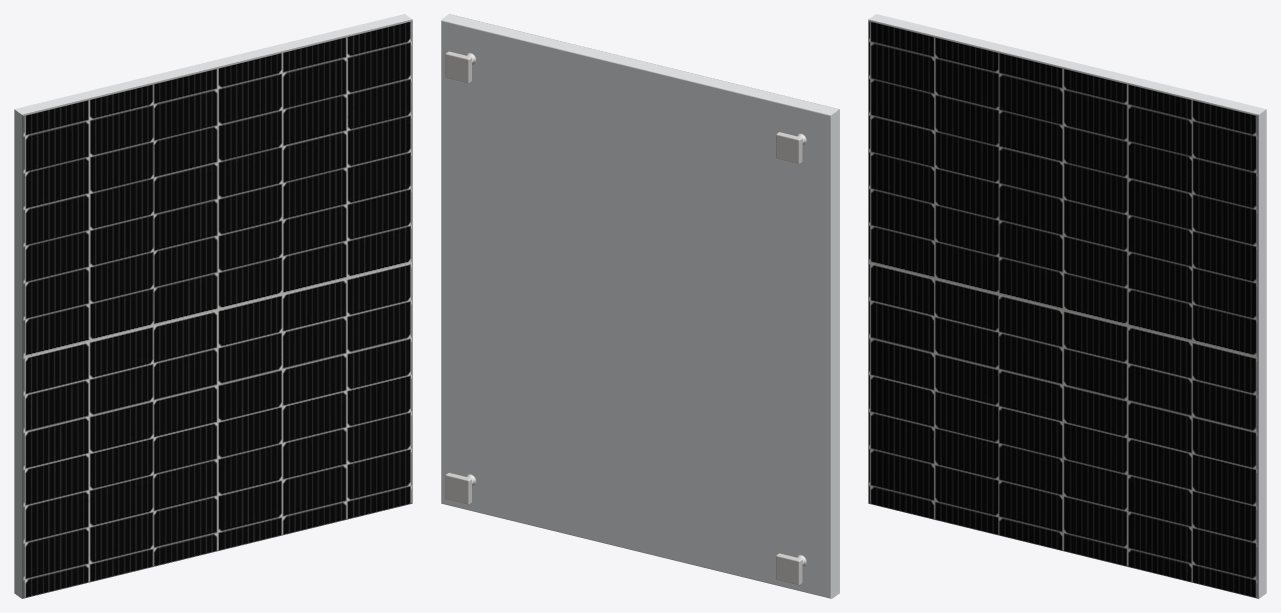
The model's file is bipv_cladding.glb.
The picture shows the model from 3 angles, left to right: view 1: azimuth 30°, elevation 25°; view 2: azimuth 150°, elevation 25°; view 3: azimuth 330°, elevation 25°; orthographic projection.
Parts seen in each view (by area): view 1: BIPV Cladding.SLDPRT; view 2: BIPV Cladding.SLDPRT; view 3: BIPV Cladding.SLDPRT.
Part boxes in pixels (x1=…): BIPV Cladding.SLDPRT: x1=14, y1=14, x2=412, y2=598; BIPV Cladding.SLDPRT: x1=441, y1=14, x2=839, y2=598; BIPV Cladding.SLDPRT: x1=868, y1=14, x2=1266, y2=598.
Bounding box in the file's own units: 0.65 × 0.77 × 0.065.
4 materials, 1 textured.
